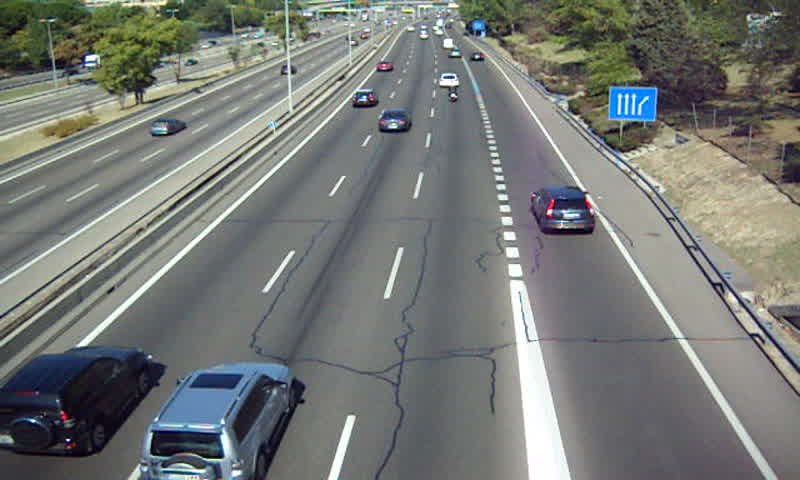car: (140, 362, 294, 480), (1, 347, 150, 455), (529, 186, 597, 234), (379, 110, 414, 134), (352, 89, 379, 110), (437, 72, 461, 88), (376, 60, 395, 72)
motorcycle: (446, 84, 460, 102)
